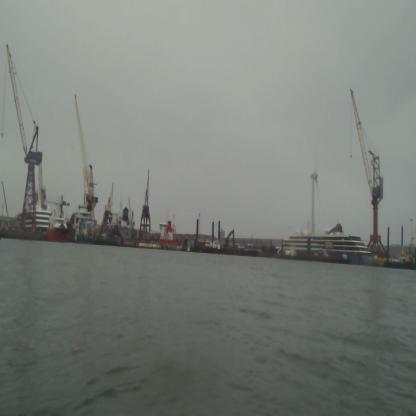Container Ship: (158, 220, 182, 251)
